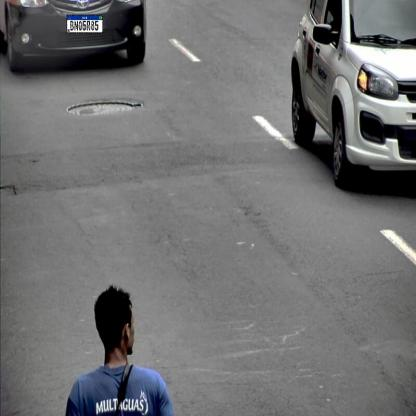PlacaM: (67, 15, 103, 33)
